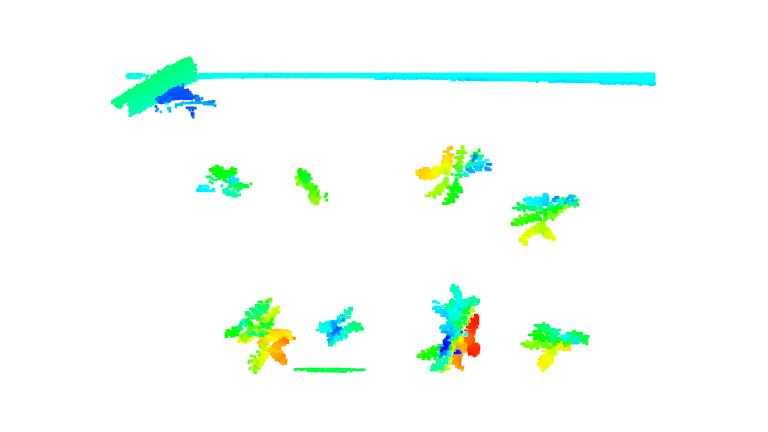chickpea: (414, 285, 491, 373), (226, 298, 296, 374), (413, 143, 494, 206), (508, 192, 583, 247), (521, 322, 592, 372), (195, 161, 251, 199), (315, 305, 364, 346), (293, 166, 327, 206)
